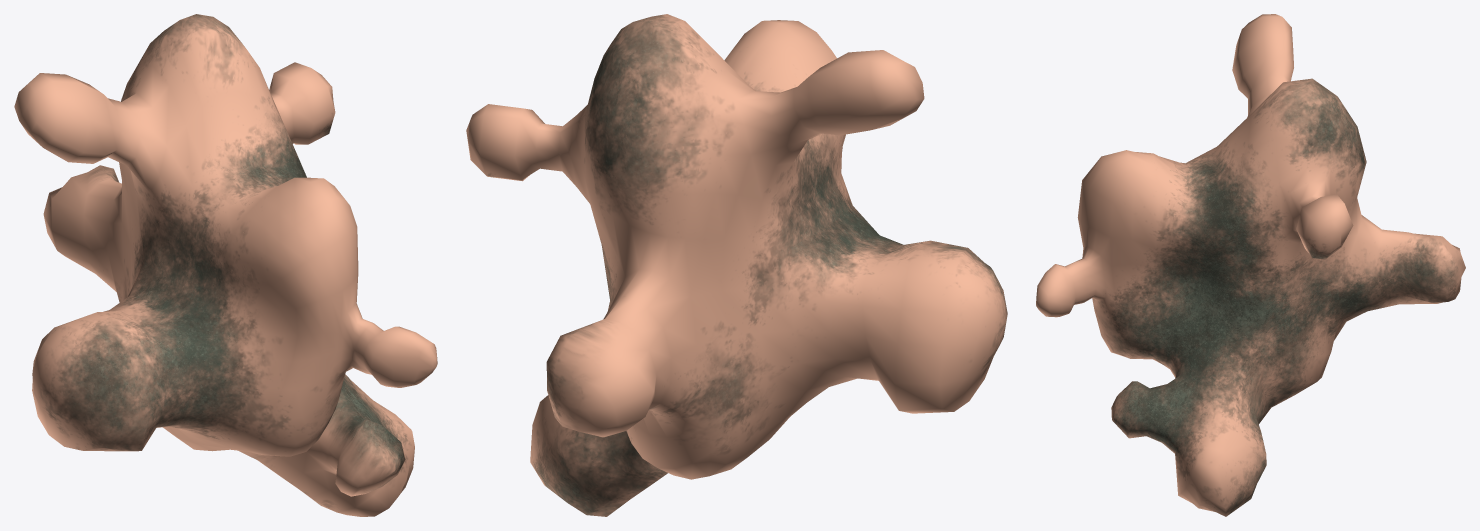
The model's file is Copper.fbx.
3 views of the same model, side by side, from view 1: azimuth 30°, elevation 25°; view 2: azimuth 150°, elevation 25°; view 3: azimuth 270°, elevation 25° (orthographic). The views are drawn at different scales.
Visible parts, largest first — view 1: Copper; view 2: Copper; view 3: Copper.
Part boxes in pixels (x1,y1,x2,y2): Copper: [14, 14, 437, 516]; Copper: [466, 14, 1007, 516]; Copper: [1036, 14, 1465, 516].
Size of the model in its own units: 5.44 by 6.55 by 6.57.
Materials: 1 (1 with a texture image).
